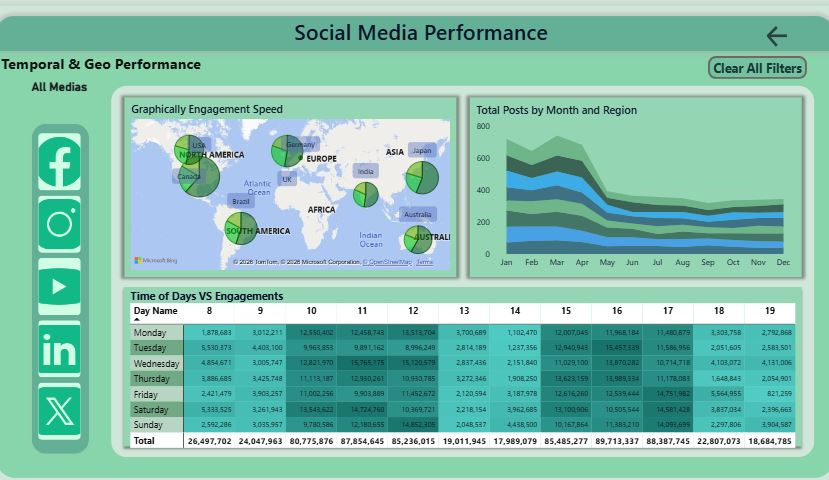

Layout of this report page (visuals, bound fields, positions):
{"tool":"powerbi","page":{"name":"Temporal & Geo Performance","canvas":[1280,720],"ordinal":1},"visuals":[{"type":"shape","box":[63.9,171.5,93.5,500.5],"z":0,"group":"g1"},{"type":"group","id":"g1","title":"Group 1","box":[63.9,171.5,93.5,500.5],"z":0},{"type":"textbox","box":[454.4,10,398.5,55.9],"z":1000},{"type":"textbox","box":[11.5,65.9,319.6,41.6],"z":2000},{"type":"map","title":"Graphically Engagement Speed ","fields":{"Category":["dim_location.Region"],"Series":["fact_posts.Engagement_Level"],"Size":["_Measures.Total Engagements"],"X":["Avg(dim_location.Longitude)"],"Y":["Avg(dim_location.Latitude)"]},"box":[212,143.4,484.9,255.7],"z":3000},{"type":"stackedAreaChart","title":"Total Posts by Month and Region","fields":{"Category":["Dim_Date.Date.Variation.Date Hierarchy.Day","Dim_Date.Month Short Name"],"Series":["dim_location.Region"],"Y":["_Measures.Total Posts"]},"box":[727.1,144.6,483.3,255.1],"z":4000},{"type":"pivotTable","title":"Time of Days VS Engagements","fields":{"Columns":["fact_posts.Post_Hour"],"Rows":["Dim_Date.Day Name"],"Values":["_Measures.Total Engagements"]},"box":[209.8,422.4,1003.5,242.4],"z":5000},{"type":"cardVisual","fields":{"Data":["_Measures.Title image"]},"box":[34.4,94.6,150.5,50.2],"z":6000},{"type":"actionButton","box":[1076.5,74.5,147.6,34.4],"z":7000},{"type":"actionButton","box":[1151,25.8,58.8,40.1],"z":7001},{"type":"advancedSlicerVisual","fields":{"Values":["dim_platform.Image URL"]},"box":[73.3,185.5,73.3,467.7],"z":15000,"group":"g1"}]}

Visuals, with their boxes in screenshot pixels (x1, y1, x2, y2), scaled from the page's 1280x720 canvas onto the 829x480 screenshot:
shape: {"x1": 41, "y1": 114, "x2": 102, "y2": 448}
"Group 1" group: {"x1": 41, "y1": 114, "x2": 102, "y2": 448}
textbox: {"x1": 294, "y1": 7, "x2": 552, "y2": 44}
textbox: {"x1": 7, "y1": 44, "x2": 214, "y2": 72}
"Graphically Engagement Speed " map: {"x1": 137, "y1": 96, "x2": 451, "y2": 266}
"Total Posts by Month and Region" stackedAreaChart: {"x1": 471, "y1": 96, "x2": 784, "y2": 266}
"Time of Days VS Engagements" pivotTable: {"x1": 136, "y1": 282, "x2": 786, "y2": 443}
cardVisual - _Measures.Title image: {"x1": 22, "y1": 63, "x2": 120, "y2": 97}
actionButton: {"x1": 697, "y1": 50, "x2": 793, "y2": 73}
actionButton: {"x1": 745, "y1": 17, "x2": 784, "y2": 44}
advancedSlicerVisual - dim_platform.Image URL: {"x1": 47, "y1": 124, "x2": 95, "y2": 435}
